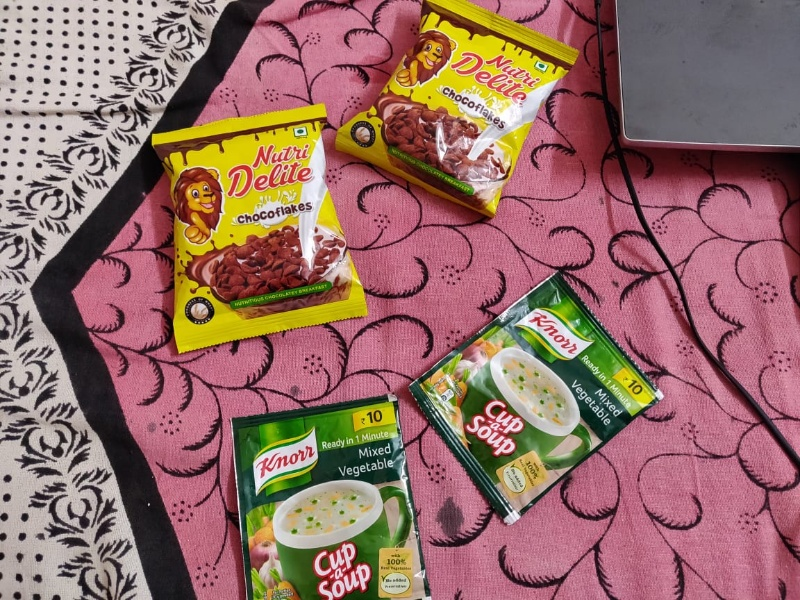Knorr_Cup_Soup: (413, 270, 669, 512), (235, 400, 430, 600)
nutriDelite: (339, 1, 580, 217), (155, 109, 352, 331)
